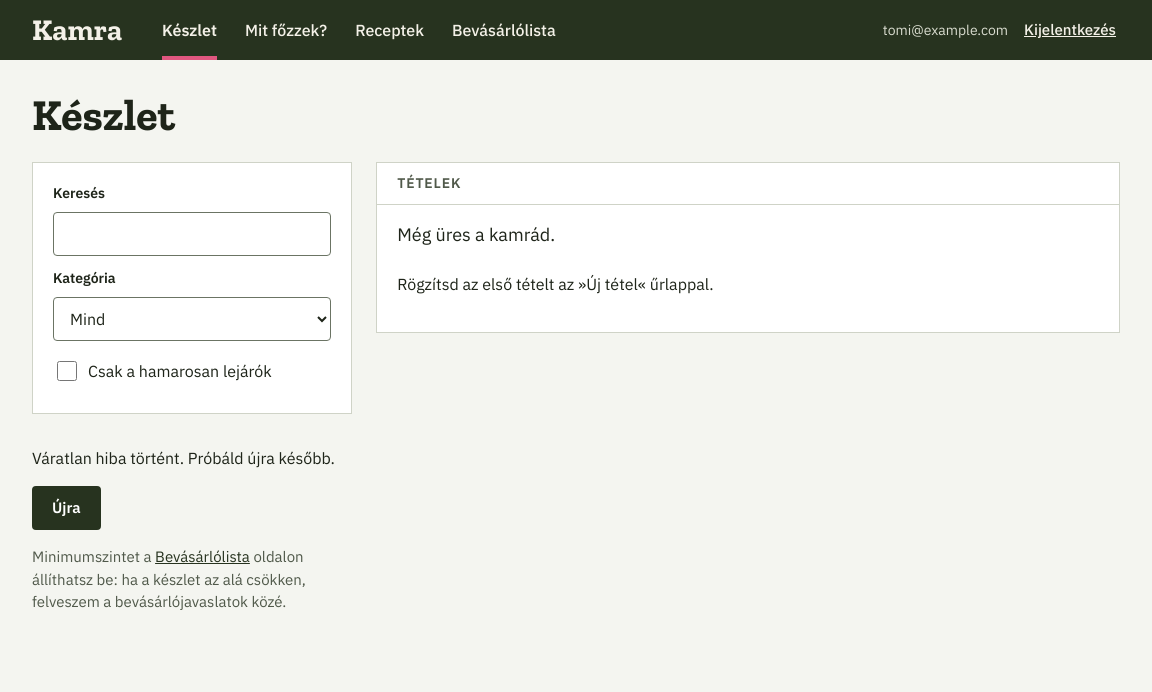
pantry list › shows a catalog failure and loads the catalog again on retry
The width and height of the screenshot is (1152, 692).
Expected: the text "Váratlan hiba történt. Próbáld újra később." is shown, [32,446,352,470]
Click the button "Újra".
click(66, 508)  # box [32,486,101,530]
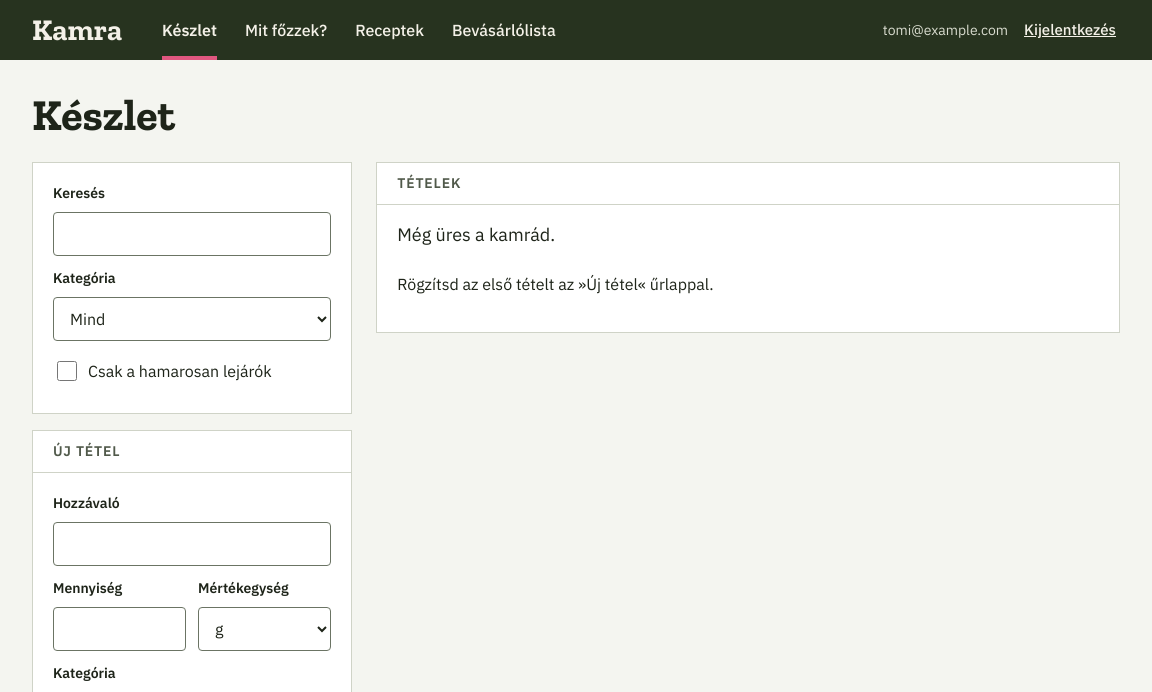
Expected: the text "Váratlan hiba történt. Próbáld újra később." is gone
